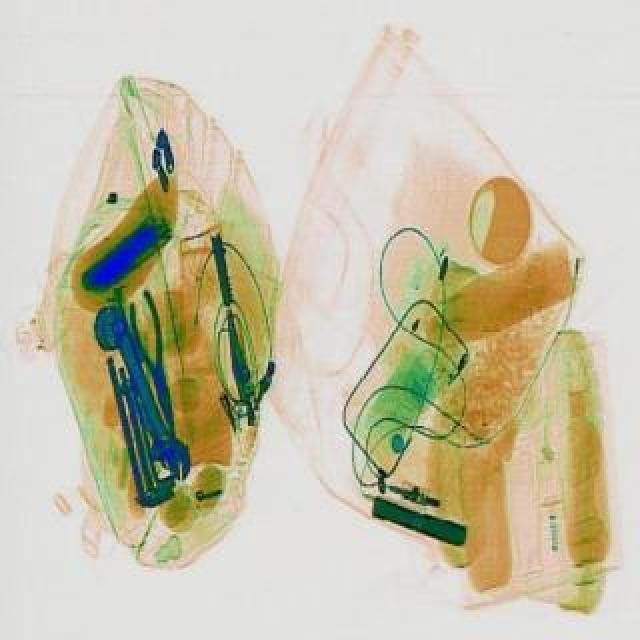scissors: (92, 310, 200, 488)
wrench: (118, 286, 186, 426)
